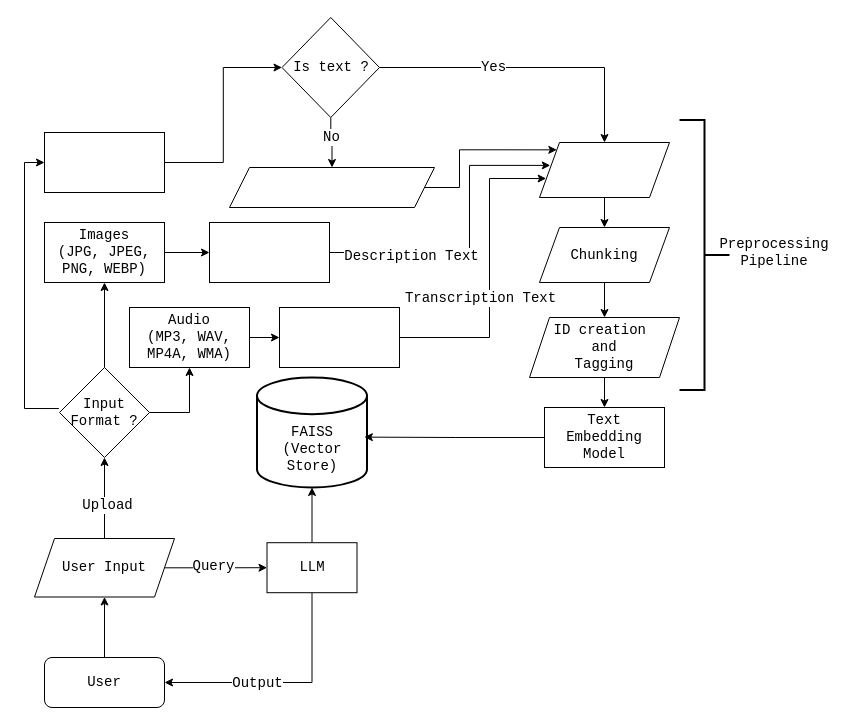
This 846x725 diagram has some shape labels left out. Each missing label, with the centre of its shape:
Audio Transcription Model: pixel 339 337
Documents (PDF, DOC, DOCX): pixel 104 162
Optical Character Recognition: pixel 331 187
Splitting: pixel 604 170
Visual Language Model: pixel 269 252
